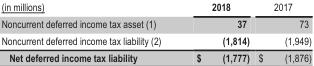table: (0, 0, 310, 62)
table column: (0, 0, 178, 62), (178, 0, 253, 62), (253, 0, 310, 62)
table column header: (0, 0, 310, 15)
table row: (0, 31, 310, 48), (0, 15, 310, 31), (0, 0, 310, 15), (0, 48, 310, 62)
